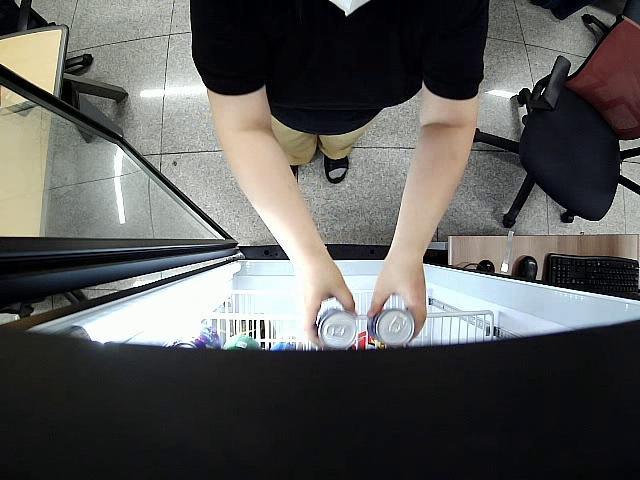00_hand: (295, 262, 356, 349), (367, 256, 427, 338)
16_hot6: (369, 304, 415, 347), (312, 307, 355, 347)
